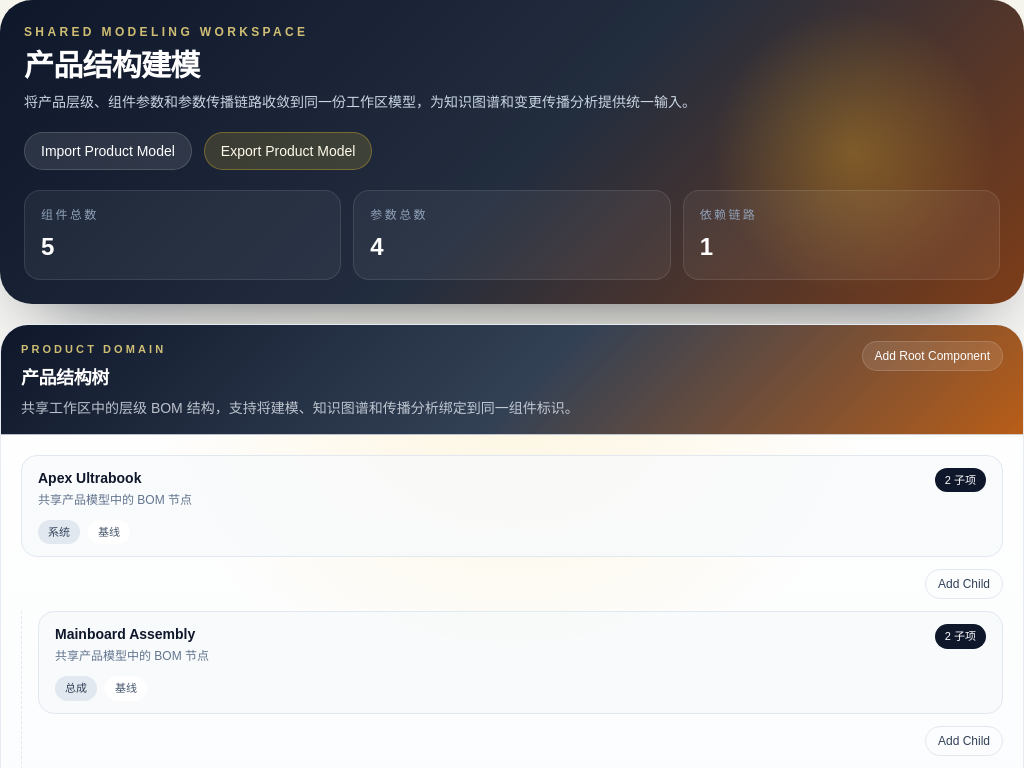
Test: ProductModelingPage › shows inline validation for missing and duplicate root component names
The image size is (1024, 768).
Click the button "Add Root Component": (932, 356) [862,341,1003,371]
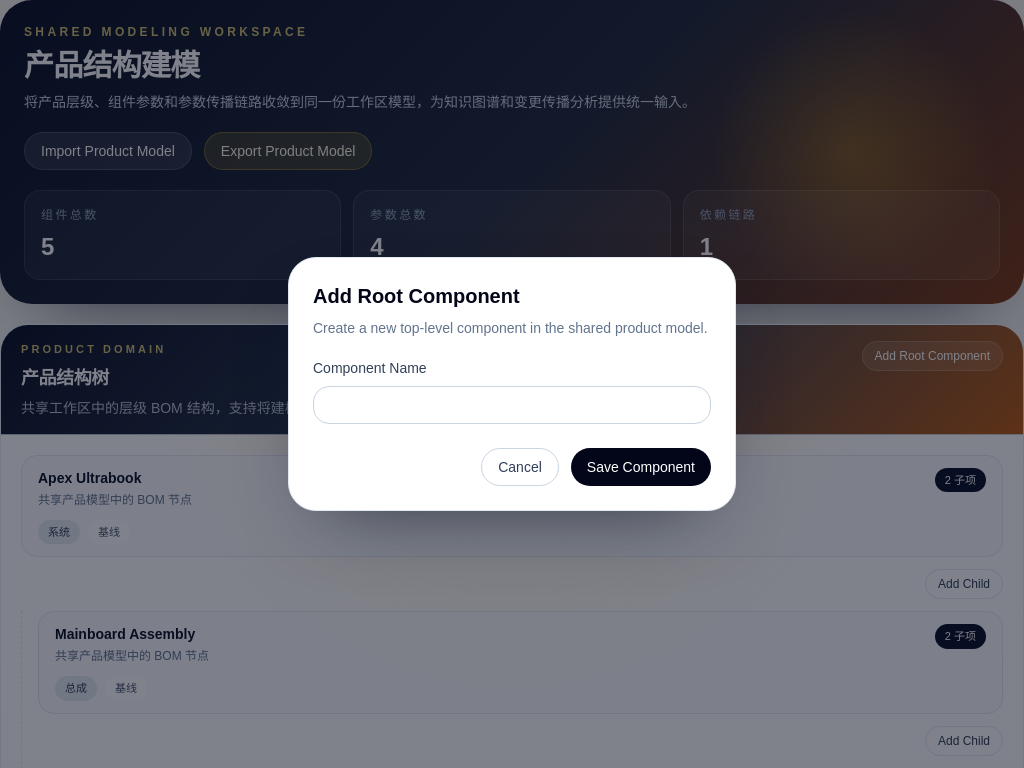
Click the button "Save Component": (641, 467) [571,448,711,486]
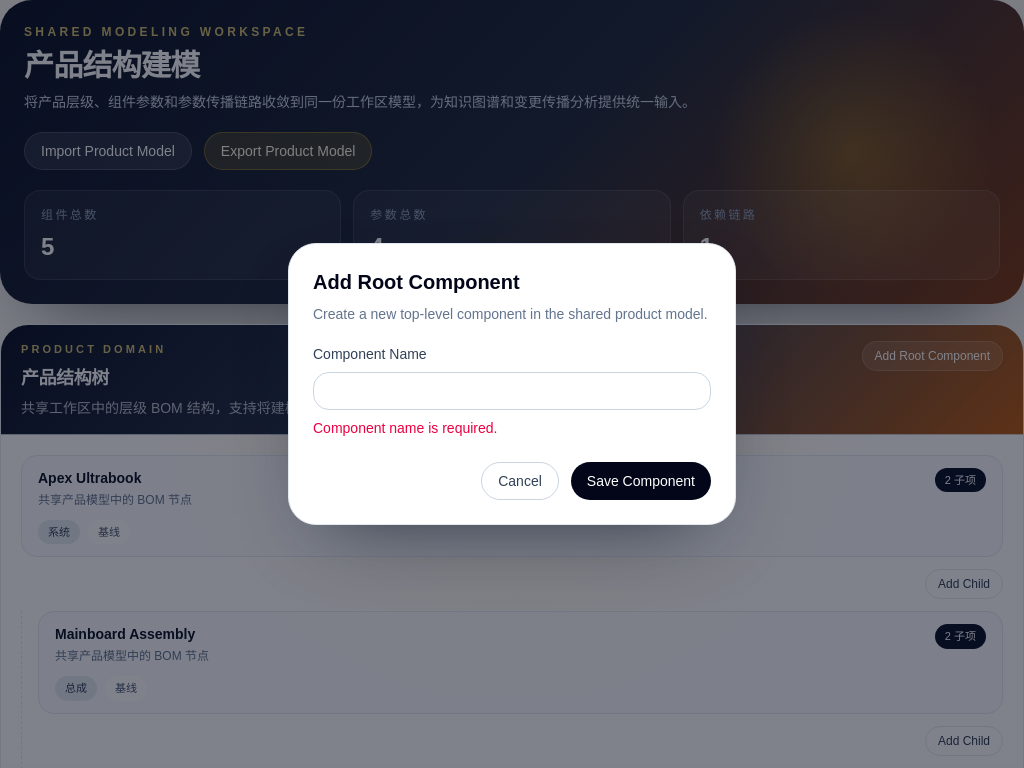
Check: the message shows "Component name is required", box [313,420,497,436]
In the field labelled "Component Name": (512, 391) [313,372,711,410], type "Apex Ultrabook"
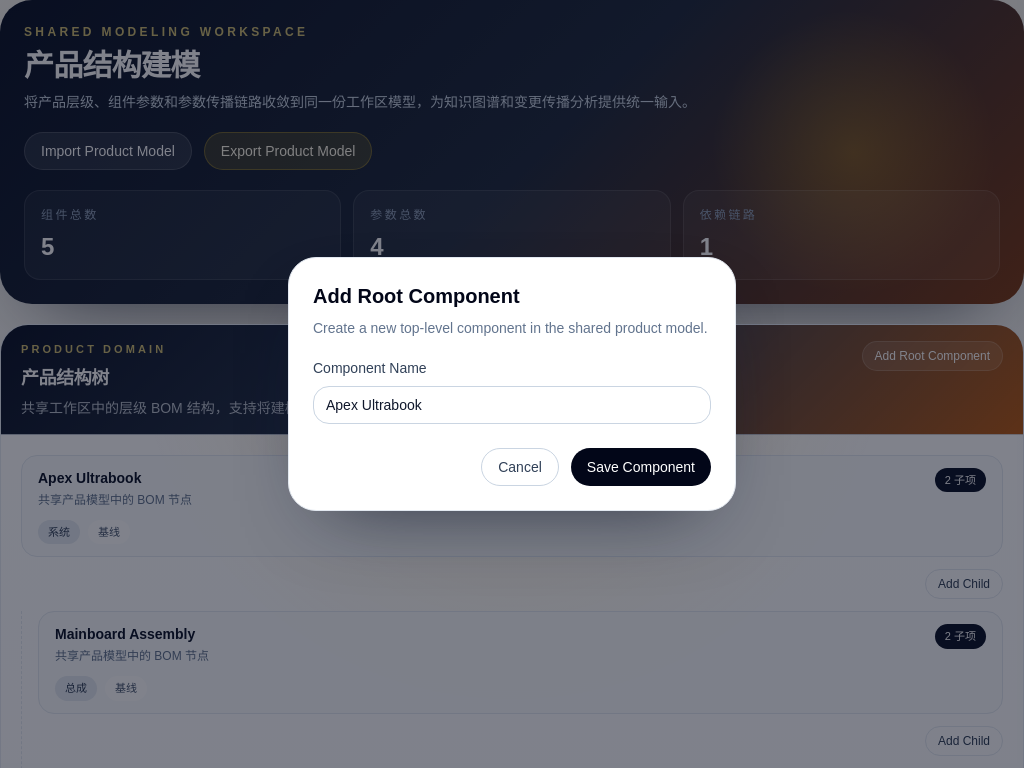
Click the button "Save Component": (641, 467) [571,448,711,486]
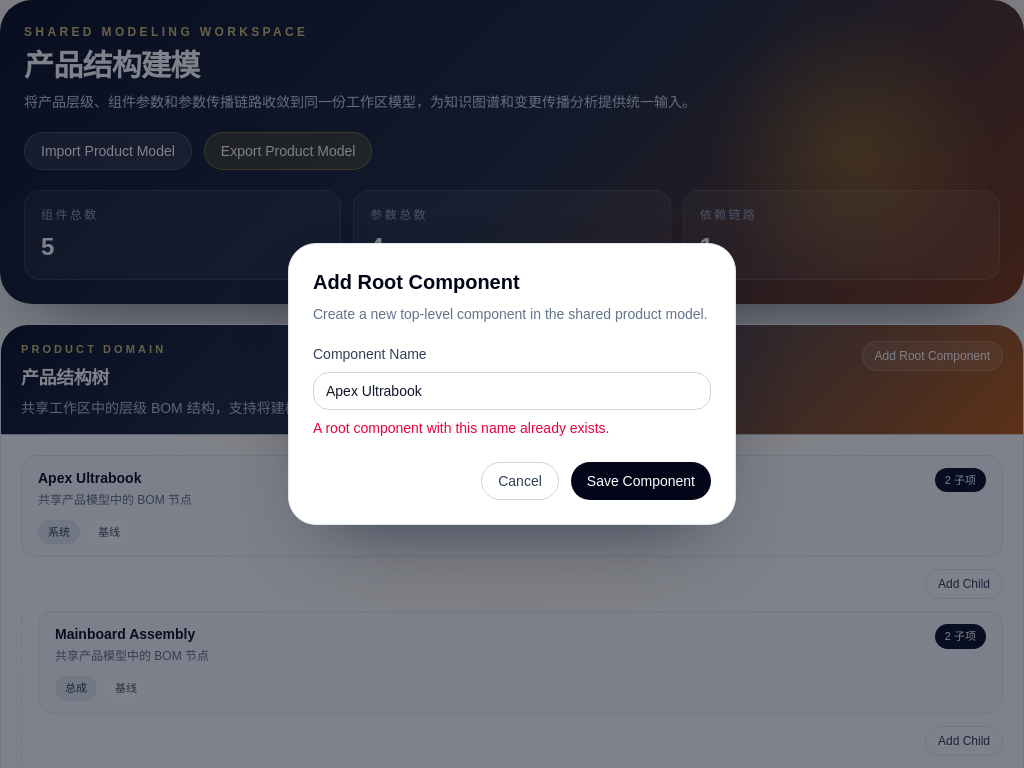
Check: the message shows "already exists", box [313,420,610,436]
